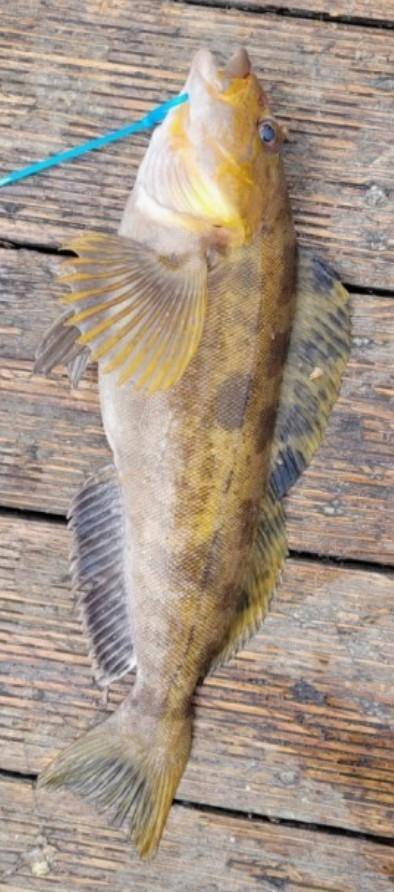fish: (38, 50, 350, 855)
